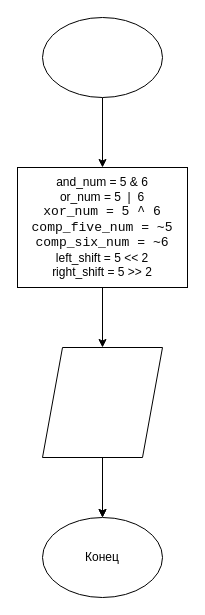
The diagram is 205 pixels wide and 615 high, and some of its shapes have lost their labels. The shapes that lost their labels are listed below. From the top down, each one's centre as x and y in pixels, then its label:
[102,57]: Начало
[102,402]: and_num, or_num, xor_num, comp_five_num, comp_six_num left_shift, right_shift
